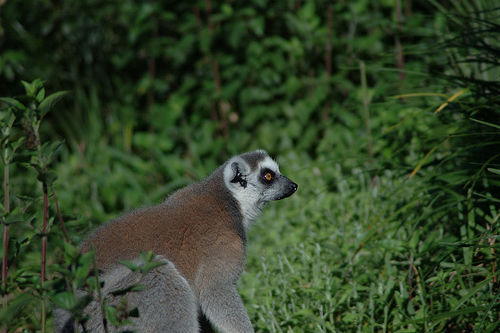cat: (49, 145, 300, 332)
